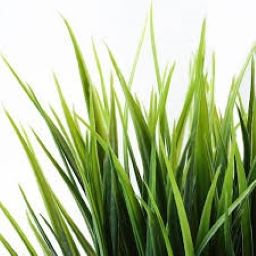grass: (2, 7, 252, 252)
